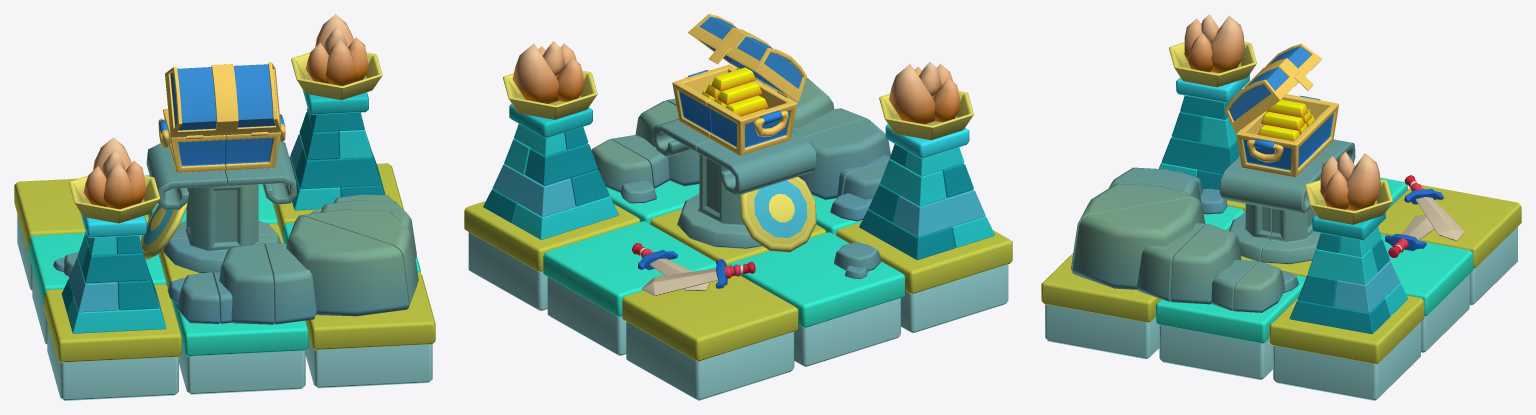
Rendered from lvl_92.fbx.
3 renders of one model, left to right at view 1: azimuth 30°, elevation 25°; view 2: azimuth 150°, elevation 25°; view 3: azimuth 270°, elevation 25°, orthographic. The views are drawn at different scales.
Visible parts, largest first — view 1: Cube_L1_15, Cube_L1_40, Cube_L1_38, Cube_L1_39, Cube_L1, Cube_L1_7, Cube_L1_16, Cube_L1_34, Cube_L1_14, Cube_L1_35, Cube_L1_18, Cube_L1_25 (+23 smaller); view 2: Cube_L1_34, Cube_L1_35, Cube_L1_33, Cube_L1_40, Cube_L1_32, Cube_L1_8, Cube_L1, Cube_L1_16, Cube_L1_5, Cube_L1_6, Cube_L1_3, Cube_L1_18 (+26 smaller); view 3: Cube_L1_32, Cube_L1_14, Cube_L1_37, Cube_L1_38, Cube_L1_34, Cube_L1_33, Cube_L1_13, Cube_L1, Cube_L1_4, Cube_L1_2, Cube_L1_18, Cube_L1_25 (+25 smaller).
Boxes of the visible parts, x1,y1,x2,y2 form: Cube_L1_15: (264,216,408,324); Cube_L1_40: (44,284,181,400); Cube_L1_38: (305,271,435,388); Cube_L1_39: (172,300,308,394); Cube_L1: (165,62,281,139); Cube_L1_7: (163,184,281,273); Cube_L1_16: (213,243,274,324); Cube_L1_34: (14,178,149,290); Cube_L1_14: (299,209,418,308); Cube_L1_35: (29,233,166,344); Cube_L1_18: (306,14,368,85); Cube_L1_25: (83,137,146,209); Cube_L1_34: (622,268,798,400); Cube_L1_35: (729,232,905,367); Cube_L1_33: (543,221,716,355); Cube_L1_40: (836,222,1012,333); Cube_L1_32: (464,201,640,311); Cube_L1_8: (740,177,816,252); Cube_L1: (688,14,806,102); Cube_L1_16: (798,119,890,199); Cube_L1_5: (696,132,816,195); Cube_L1_6: (677,154,762,248); Cube_L1_3: (707,84,797,155); Cube_L1_18: (512,41,583,103); Cube_L1_32: (1269,295,1424,400); Cube_L1_14: (1072,198,1205,301); Cube_L1_37: (1155,275,1306,380); Cube_L1_38: (1041,253,1161,359); Cube_L1_34: (1378,185,1521,305); Cube_L1_33: (1380,234,1473,352); Cube_L1_13: (1170,224,1258,310); Cube_L1: (1224,43,1321,133); Cube_L1_4: (1219,156,1323,213); Cube_L1_2: (1236,114,1317,177); Cube_L1_18: (1320,151,1380,210); Cube_L1_25: (1184,14,1244,73).
Bounding box in the file's own units: 9.37 × 5.18 × 9.4.
